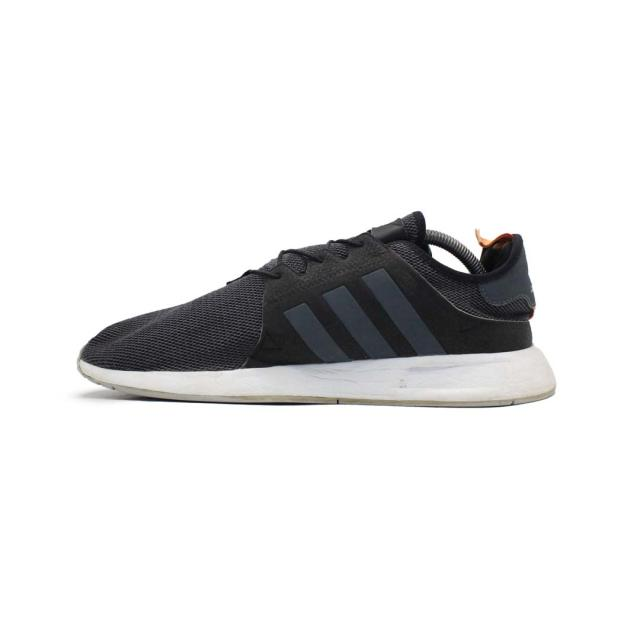heel: (459, 237, 535, 348)
midsole: (77, 340, 556, 408)
uppersole: (78, 210, 457, 370)
